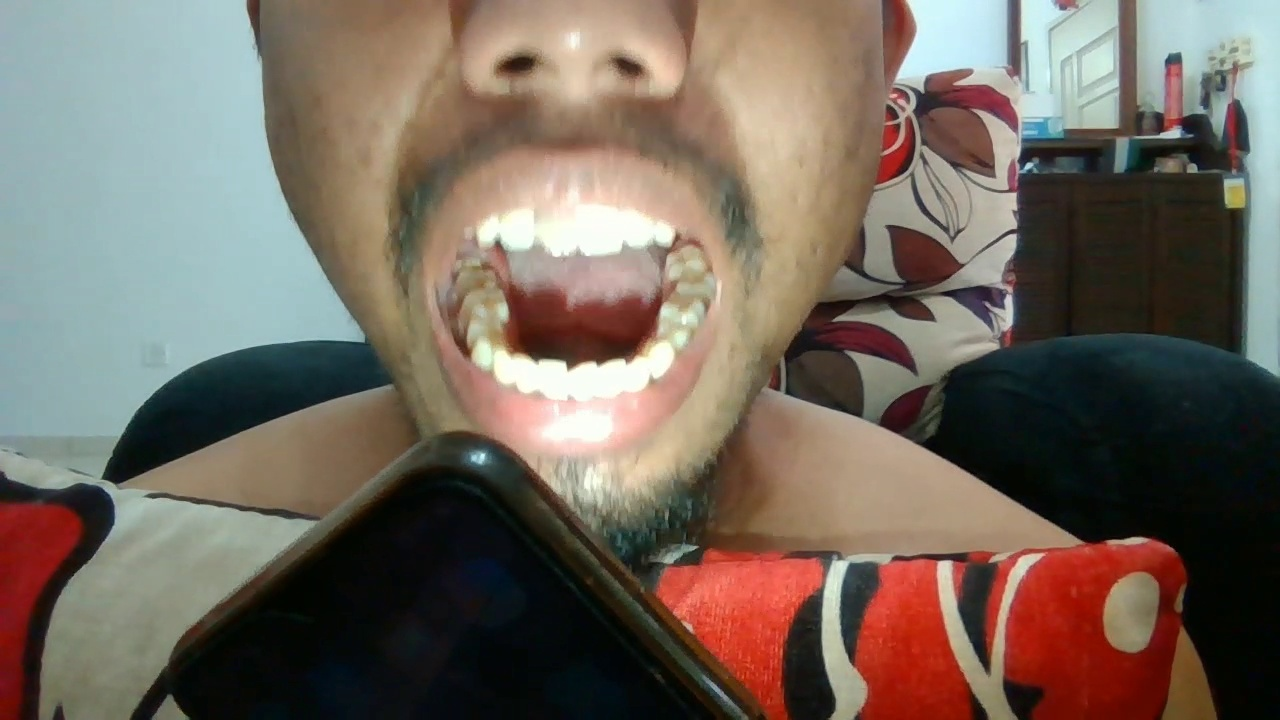1st Molar: (459, 288, 510, 323), (659, 291, 708, 322)
1st Premolar: (645, 338, 676, 379), (470, 337, 505, 367)
2nd Molar: (453, 269, 498, 295), (675, 272, 717, 298)
2nd Premolar: (466, 316, 505, 348), (658, 318, 694, 348)
3rd Molar: (665, 244, 708, 276), (452, 254, 484, 272)
Canine: (628, 354, 651, 393), (492, 345, 513, 386), (476, 214, 499, 248), (655, 220, 677, 250)
Central Incisor: (532, 205, 580, 256), (580, 204, 623, 257), (538, 358, 568, 402), (568, 358, 598, 402)
Lateral Incisor: (499, 208, 532, 250), (623, 207, 655, 248), (598, 357, 627, 398), (512, 352, 539, 395)
